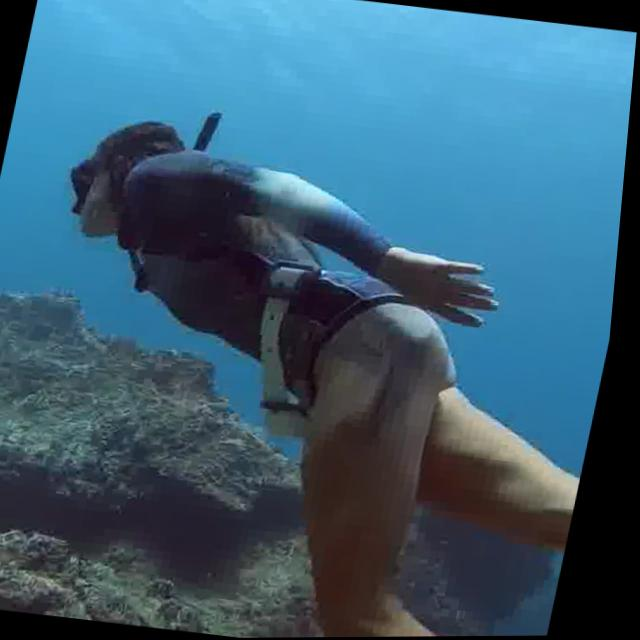human: (0, 94, 633, 640)
